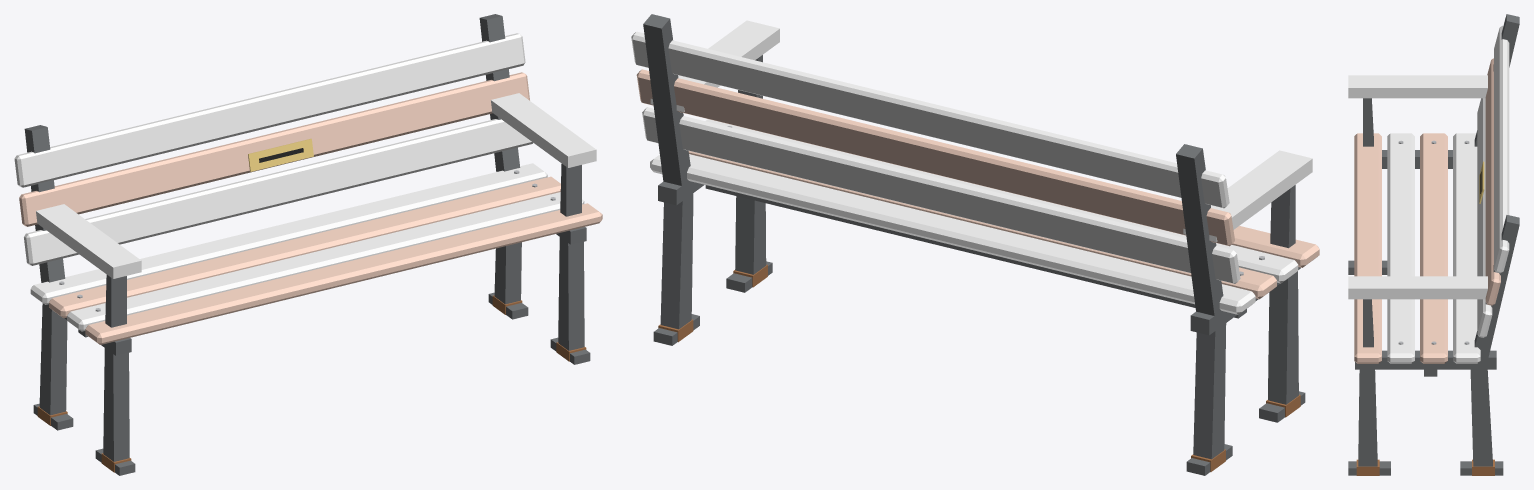
The model's file is bench.glb.
The picture shows the model from 3 angles, left to right: view 1: azimuth 30°, elevation 25°; view 2: azimuth 150°, elevation 25°; view 3: azimuth 270°, elevation 25°; orthographic projection. The views are drawn at different scales.
Parts seen in each view (by area): view 1: bench_body; view 2: bench_body; view 3: bench_body.
Part boxes in pixels (left/top/right/bottom): bench_body: left=14, top=14, right=602, bottom=475; bench_body: left=631, top=14, right=1319, bottom=475; bench_body: left=1348, top=14, right=1519, bottom=475.
Size of what is drawn, in the model's own units: 1.6 by 0.85 by 0.52.
